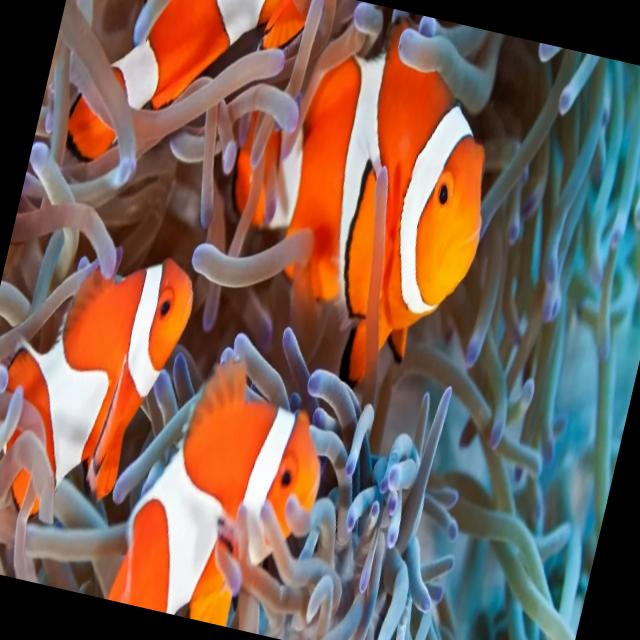ClownFish: (192, 16, 519, 400), (110, 345, 343, 640), (0, 229, 200, 521), (52, 0, 309, 204)
